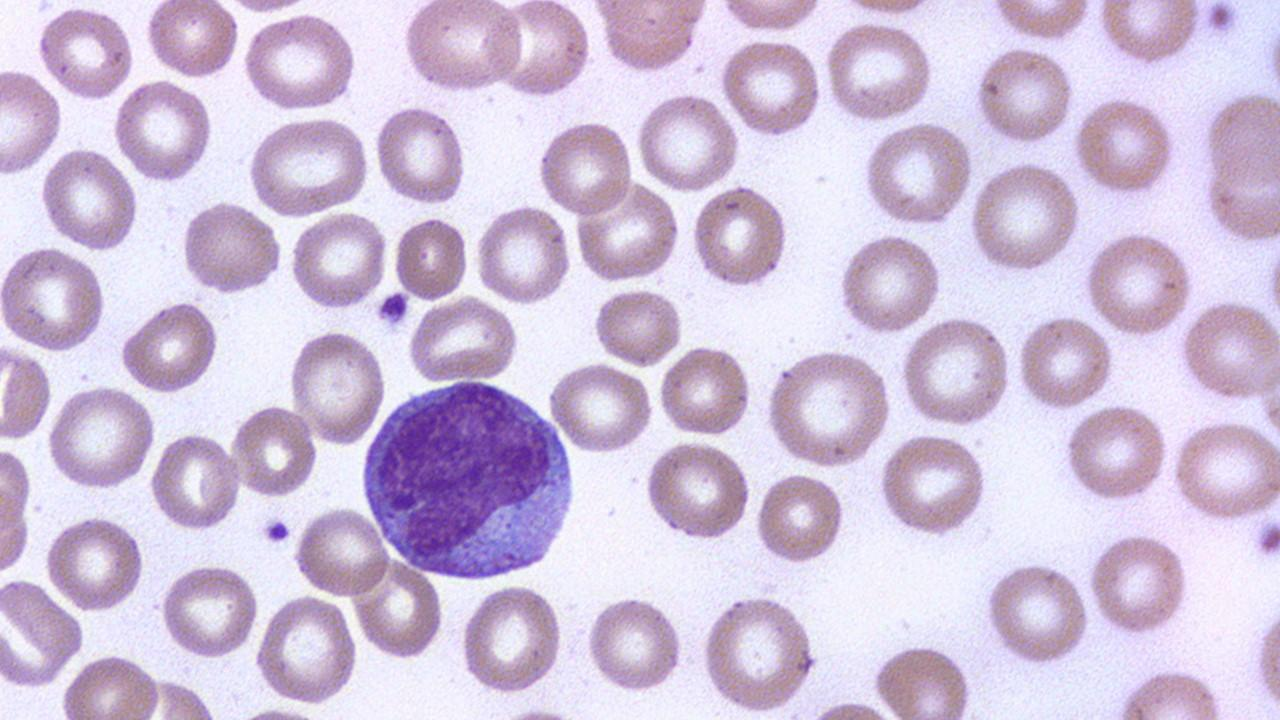Platelets: (376, 288, 412, 329), (259, 514, 291, 548)
RBC: (762, 346, 893, 470), (696, 591, 820, 715), (244, 113, 372, 220), (898, 314, 1012, 428), (969, 159, 1083, 273), (252, 593, 362, 707), (458, 580, 566, 695), (877, 430, 991, 538), (859, 121, 975, 227), (982, 558, 1092, 668), (286, 327, 386, 447), (0, 245, 110, 354), (1082, 231, 1196, 336), (822, 20, 936, 125), (47, 383, 157, 491), (640, 439, 754, 543), (240, 12, 358, 112), (572, 179, 681, 285), (834, 232, 946, 335), (400, 1, 522, 95), (1171, 418, 1280, 522), (1086, 531, 1192, 637), (1062, 402, 1170, 506), (111, 77, 216, 183), (37, 147, 141, 253), (1071, 95, 1179, 197), (689, 183, 791, 290), (634, 92, 742, 193), (348, 551, 446, 662), (546, 360, 658, 456), (719, 36, 823, 139), (1178, 297, 1280, 400), (286, 209, 388, 312), (584, 592, 685, 696), (974, 44, 1076, 146), (44, 513, 147, 614), (158, 560, 259, 662), (117, 298, 222, 396), (473, 203, 573, 305), (491, 1, 594, 100), (406, 295, 521, 383), (534, 119, 634, 219), (1012, 314, 1114, 412), (180, 198, 283, 295), (374, 103, 470, 206), (148, 428, 243, 532), (34, 6, 136, 100), (291, 506, 392, 600), (0, 576, 82, 690), (657, 343, 754, 439), (752, 469, 846, 567), (230, 402, 318, 500), (592, 1, 710, 74), (869, 639, 976, 718), (1202, 88, 1278, 192), (590, 284, 684, 367), (145, 1, 242, 80), (56, 652, 165, 717), (1, 66, 64, 178), (393, 212, 469, 304), (1096, 2, 1200, 68), (0, 340, 53, 442), (988, 0, 1094, 44), (1248, 591, 1280, 720), (712, 0, 828, 32), (0, 442, 33, 540), (1254, 343, 1280, 458), (0, 500, 31, 576), (1264, 231, 1280, 339)
WBC: (359, 370, 580, 585)
